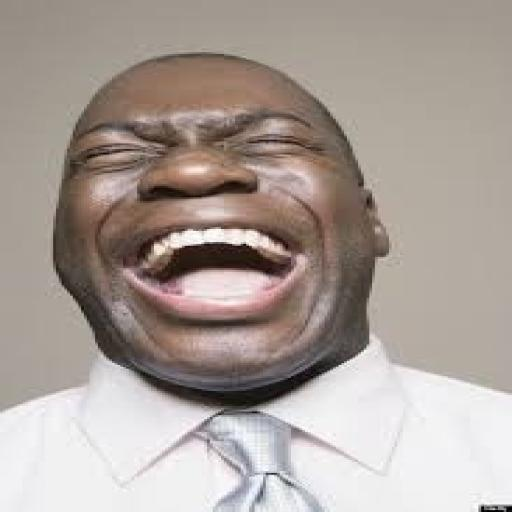laughing: (39, 47, 406, 387)
